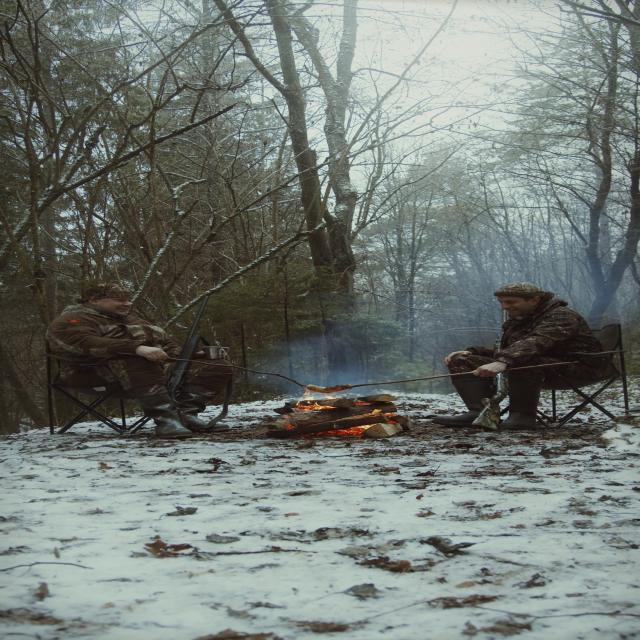Fire: (292, 388, 348, 412)
Smoke: (280, 264, 512, 392)
